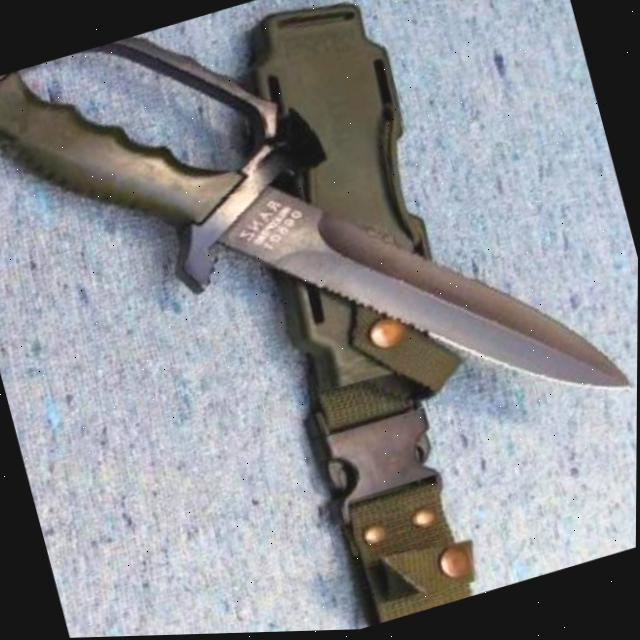knife: (0, 0, 632, 556)
